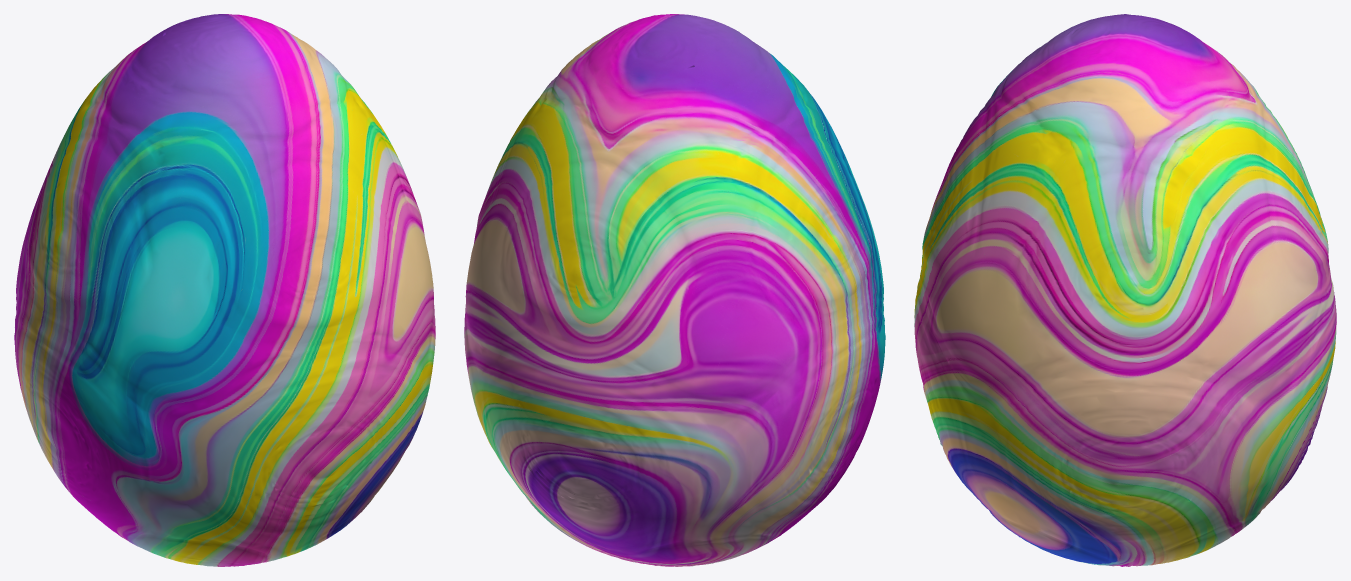
File: egg.glb
3 views of the same model, side by side, from view 1: azimuth 30°, elevation 25°; view 2: azimuth 150°, elevation 25°; view 3: azimuth 270°, elevation 25° (orthographic).
Bounding box in the file's own units: 1.4 × 1.91 × 1.4.
1 material, 1 textured.
